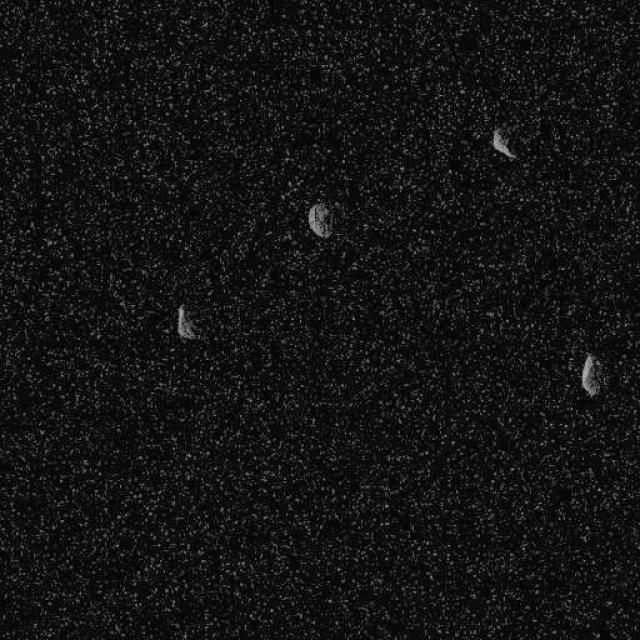D2: (579, 353, 601, 398), (306, 202, 332, 238), (490, 126, 516, 160), (175, 304, 196, 340)
